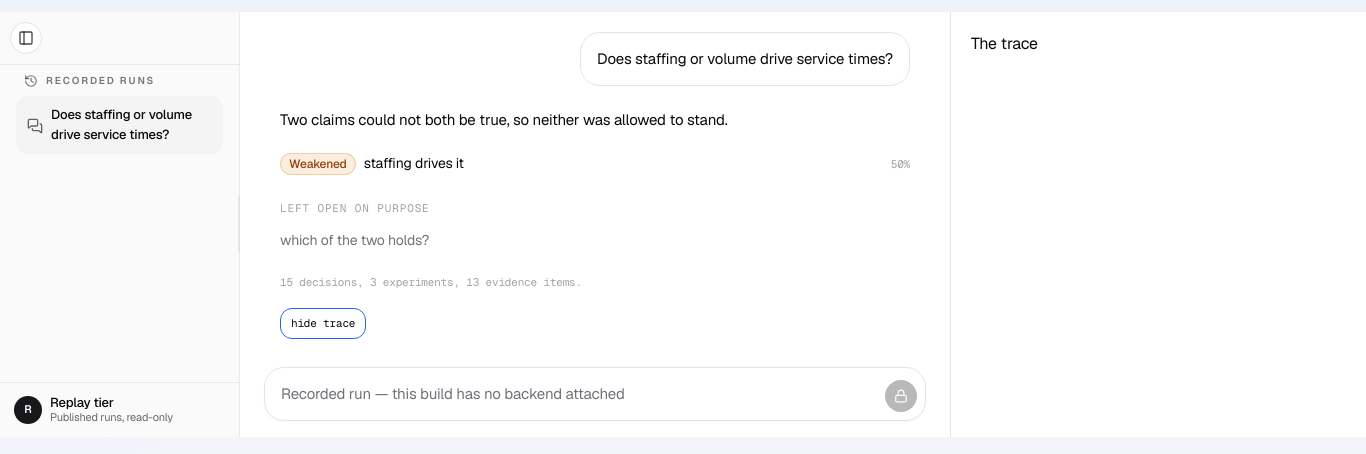
it: ChatShell › read-only (replay tier) › opens on the trace when the surface asks for it, and still collapses
Expected: the text "The trace" is shown, [971,33,1038,54]
Click the button "hide trace". click: coordinates (323, 323)
box: [280,308,366,338]
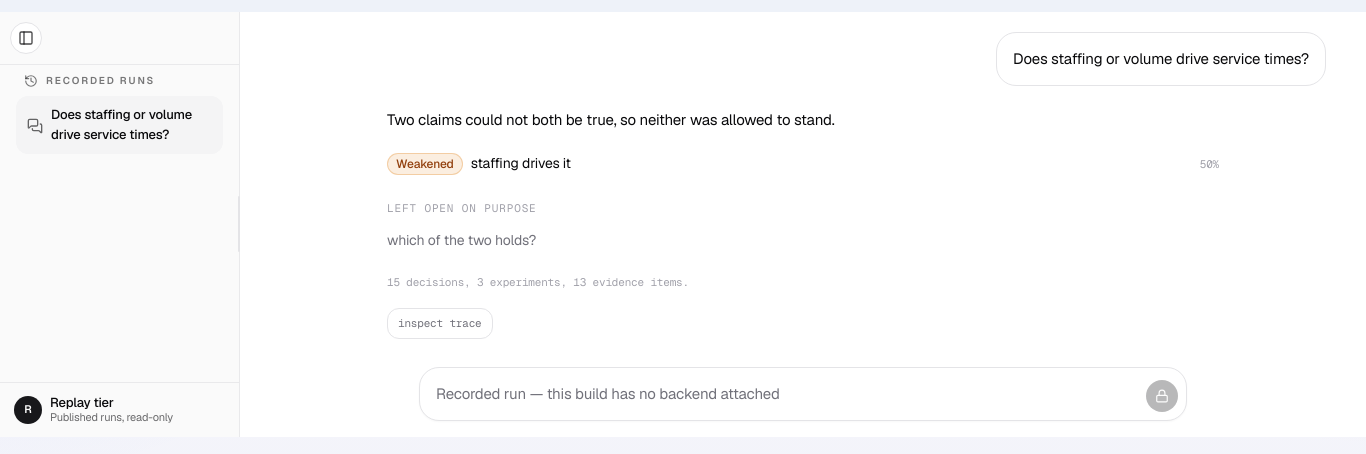
Now the text "The trace" is gone
